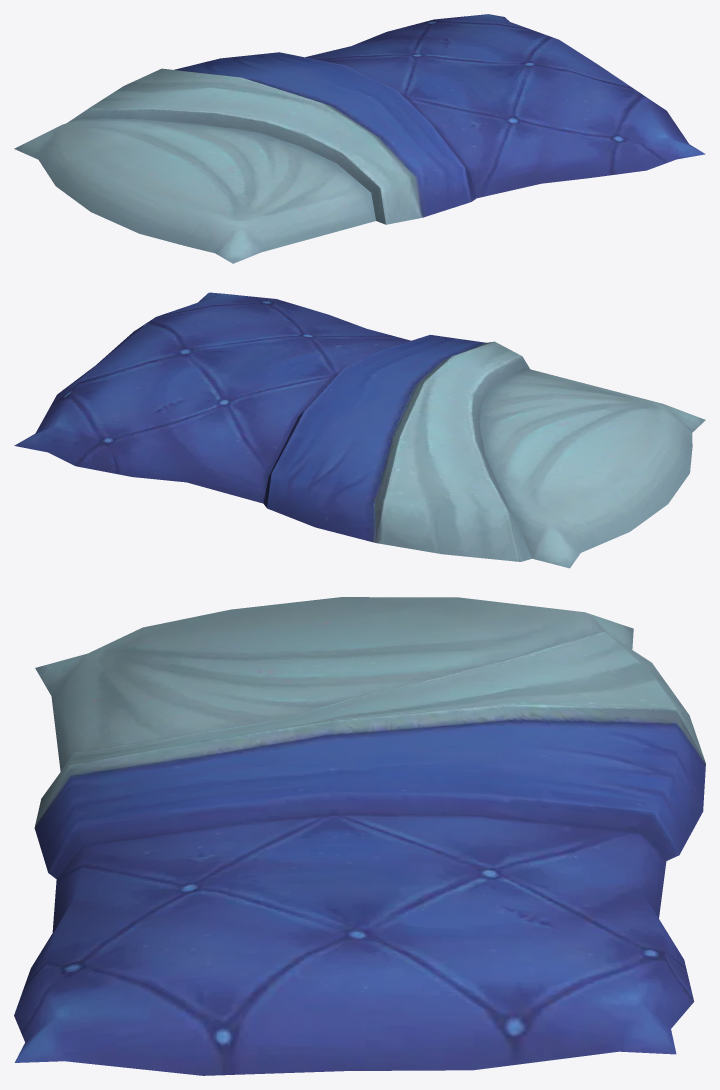
3 views of the same model, one above another, from view 1: azimuth 30°, elevation 25°; view 2: azimuth 150°, elevation 25°; view 3: azimuth 270°, elevation 25° (orthographic). The views are drawn at different scales.
Size of the model in its own units: 3.66 by 0.3711 by 2.36.
1 material, 1 textured.
